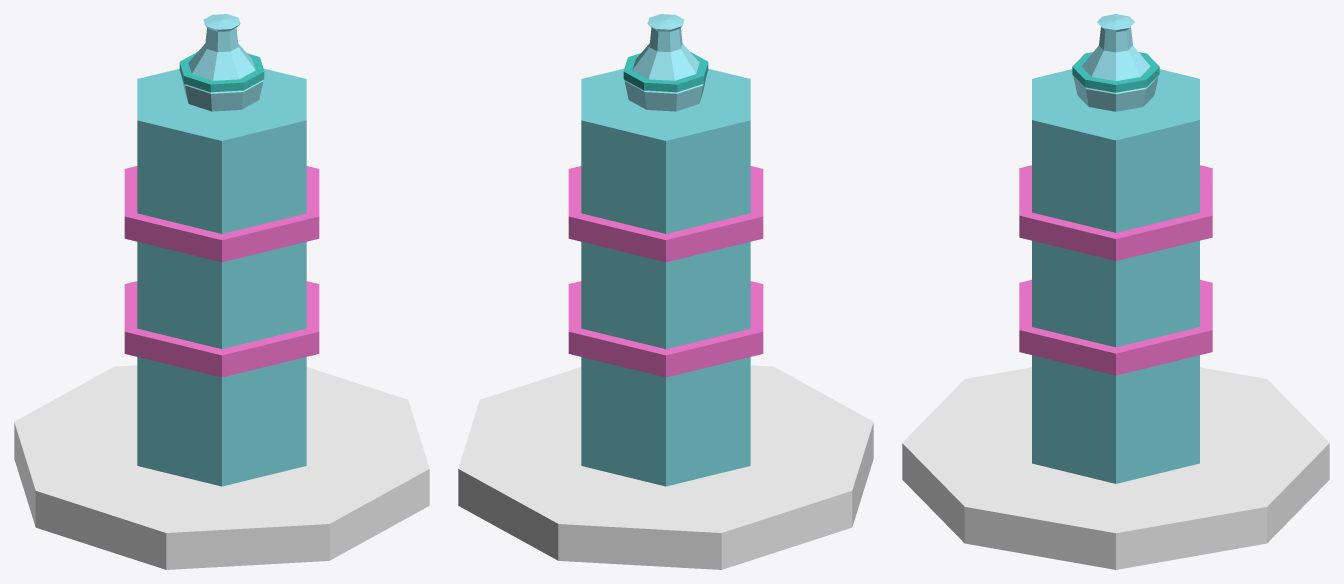
File: lab-g1.glb
The picture shows the model from 3 angles, left to right: view 1: azimuth 30°, elevation 25°; view 2: azimuth 150°, elevation 25°; view 3: azimuth 270°, elevation 25°; orthographic projection.
Visible parts, largest first — view 1: lab-g1; view 2: lab-g1; view 3: lab-g1.
Boxes of the visible parts, box(x1,y1,x2,y2) form: lab-g1: box(14, 14, 429, 569); lab-g1: box(458, 14, 873, 569); lab-g1: box(902, 14, 1329, 569).
Bounding box in the file's own units: 1.06 × 1.25 × 1.06.
